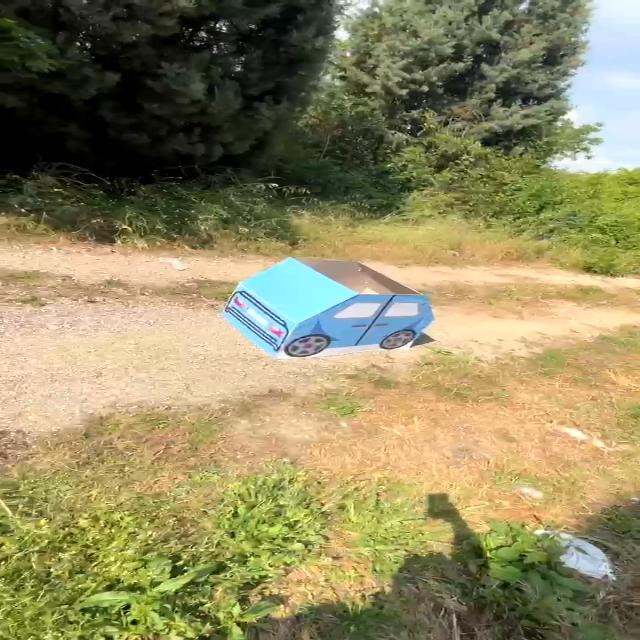blue_car: (201, 246, 464, 378)
